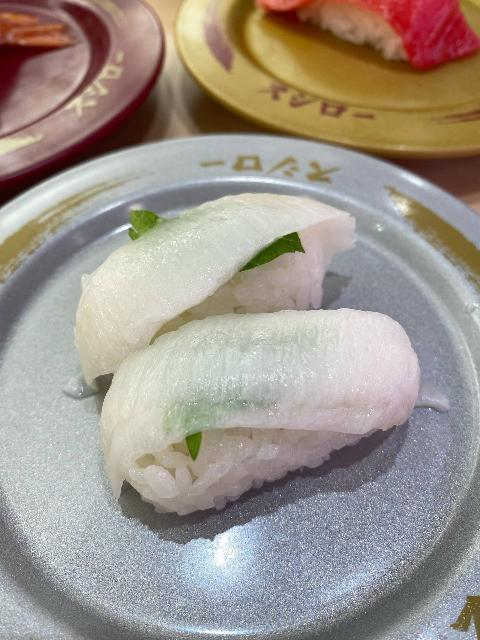jangold: (181, 0, 476, 159)
janred: (0, 5, 177, 158)
janwhite: (0, 160, 480, 640)
